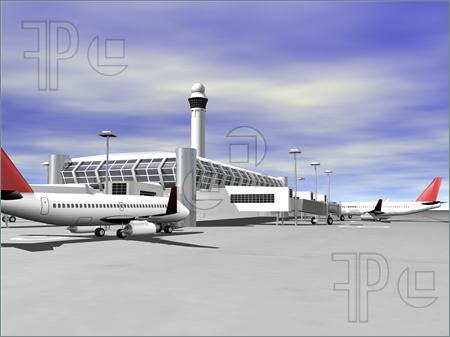aeroplane: (6, 139, 185, 240), (324, 175, 441, 230)
